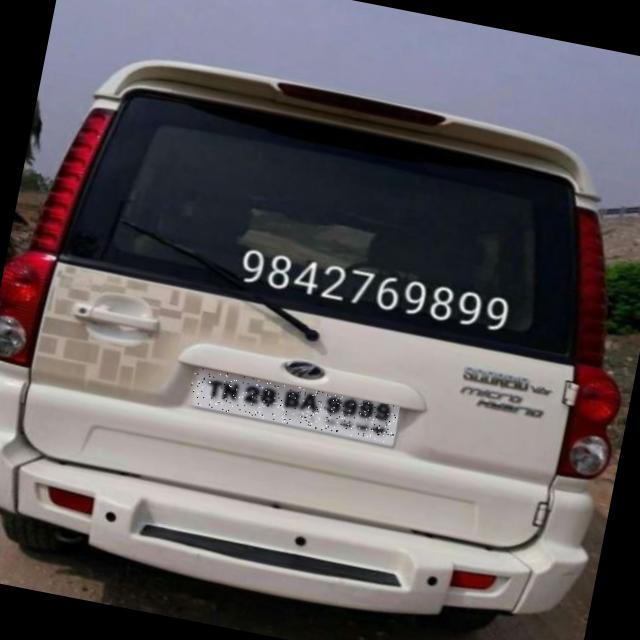Plate: (189, 368, 401, 445)
